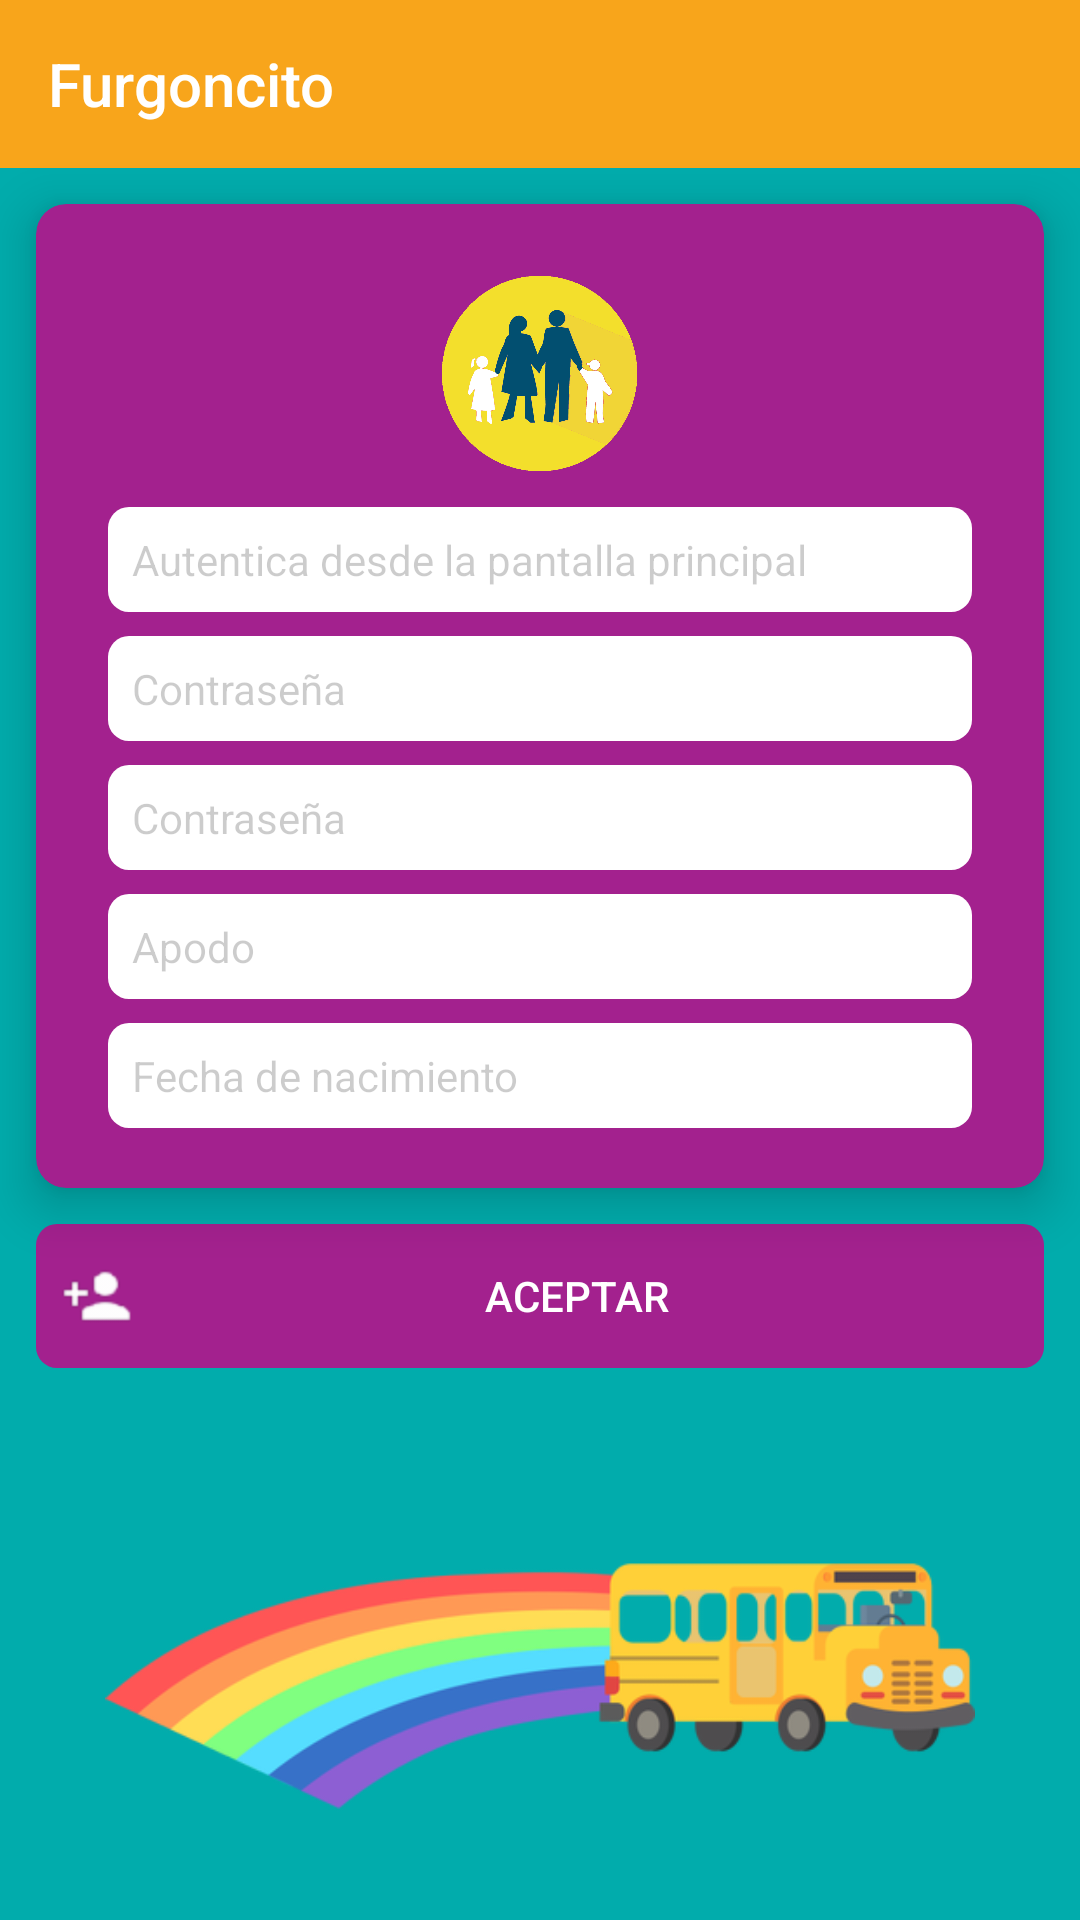

Icon click points for this 1080w x 1920h phone screenshot, format (x=x, y=y):
family: (x=539, y=373)
